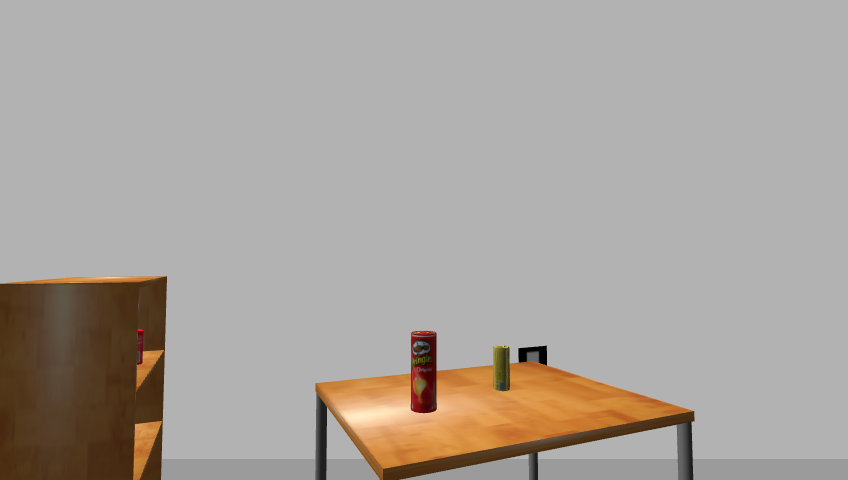aruco marker: (513, 345, 550, 369)
biscuits pack: (492, 346, 510, 393)
bookshelf: (0, 275, 172, 479)
coke can: (134, 329, 146, 366)
dinner table: (305, 361, 704, 480)
pringles can: (408, 331, 440, 415)
